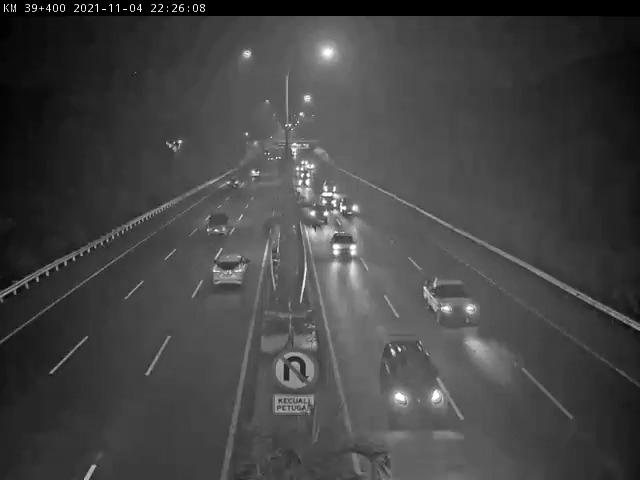car: (379, 337, 441, 415), (422, 279, 475, 323), (213, 253, 250, 288), (326, 230, 356, 261), (203, 214, 231, 239), (311, 202, 326, 221)
